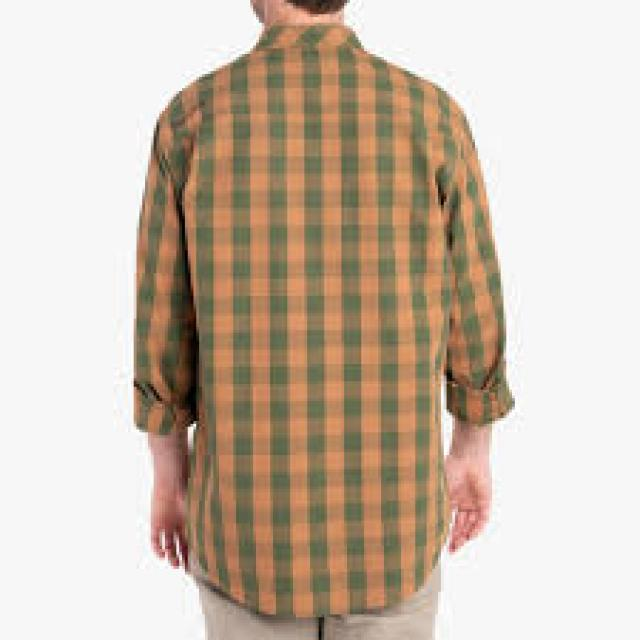plaid: (128, 22, 520, 619)
